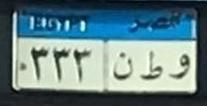3: (28, 46, 51, 82), (71, 47, 93, 84), (52, 46, 69, 83)
Taa: (140, 49, 164, 85)
noon: (110, 50, 135, 83)
waw: (170, 51, 190, 81)
